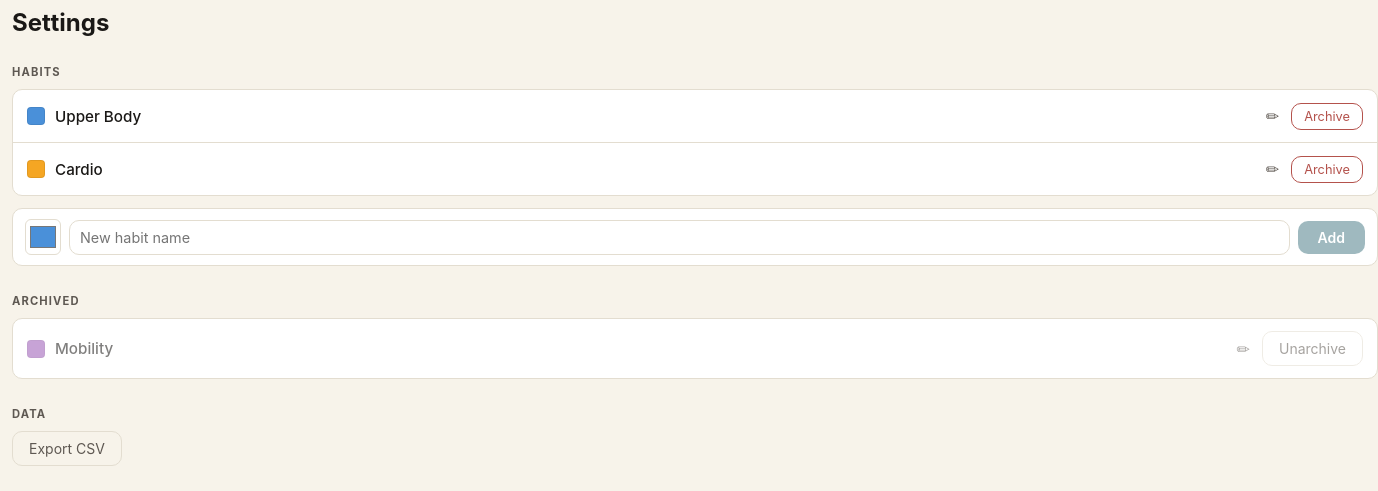
Test: pencil icon puts a row into edit mode
The image size is (1378, 491).
Click the button named "Edit Upper Body": (1272, 116) [1260,102,1285,130]
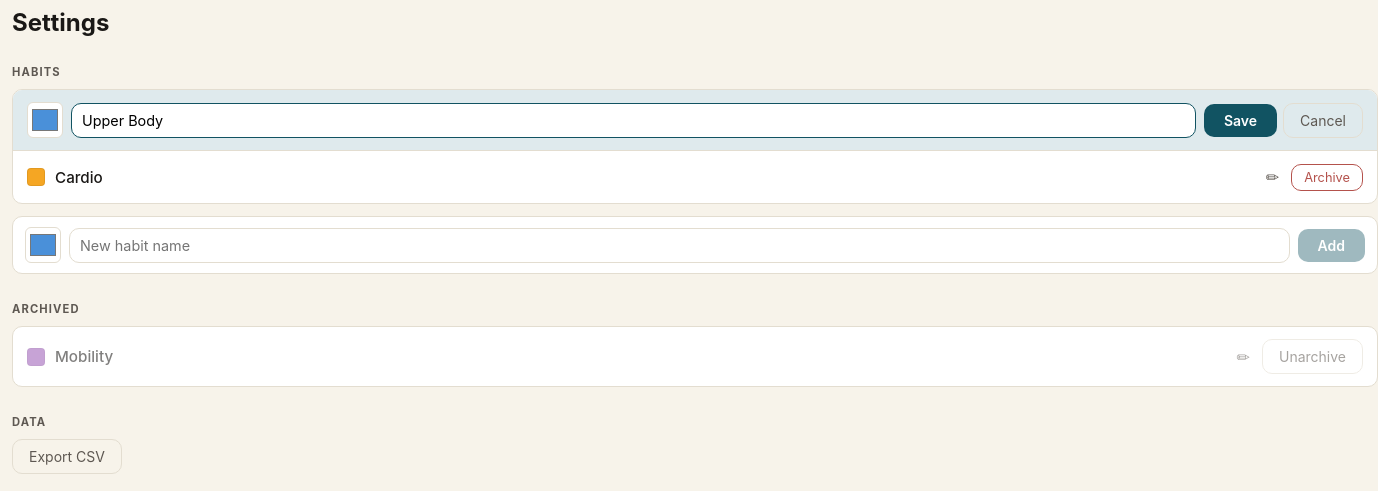
Expected: the field showing "Upper Body" is shown, [71,102,1196,138]
Expected: the button "Save" is shown, [1204,104,1277,136]
Expected: the button "Cancel" is shown, [1283,102,1363,138]
